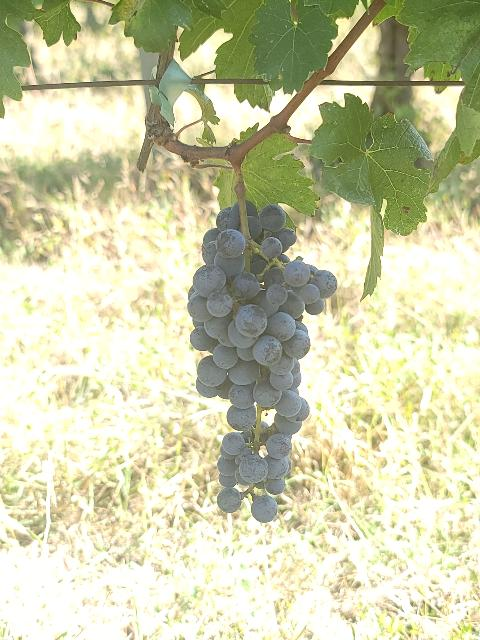grapes: (188, 201, 338, 522)
